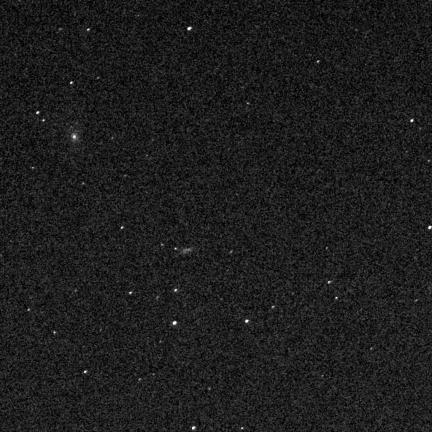blob: (36, 111, 41, 115), (173, 321, 177, 325), (70, 81, 74, 85), (328, 281, 332, 285), (245, 320, 249, 324), (121, 227, 125, 230), (188, 27, 191, 30), (411, 119, 413, 122), (429, 226, 431, 229)
